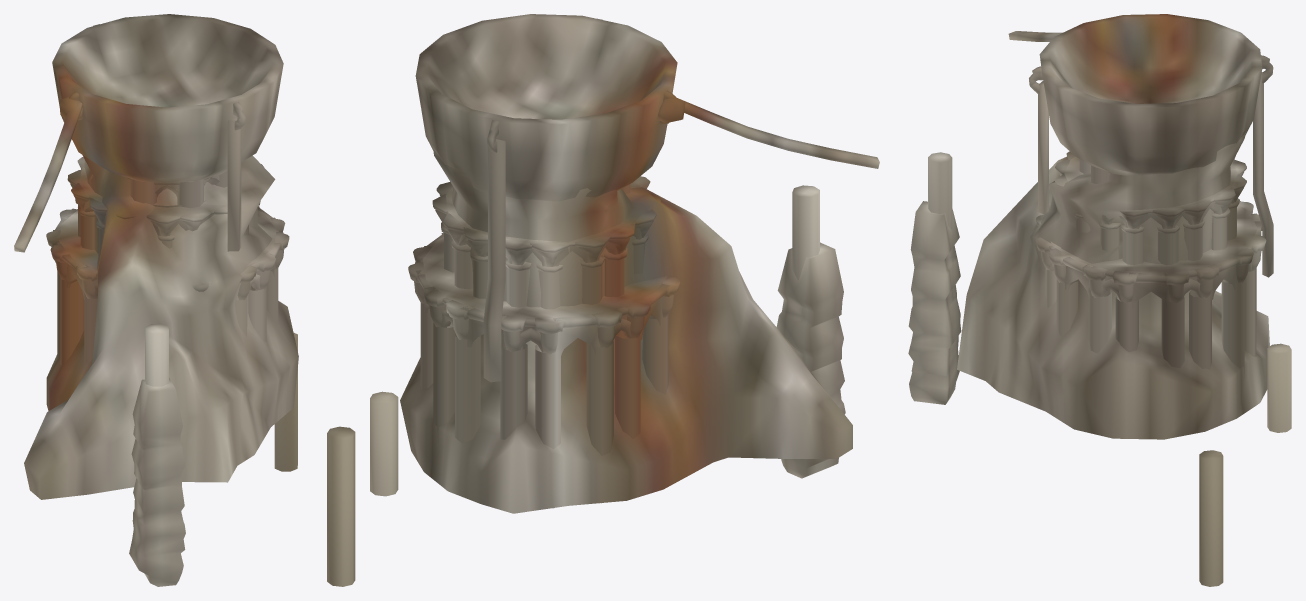
File: tile_3_4.glb
The picture shows the model from 3 angles, left to right: view 1: azimuth 30°, elevation 25°; view 2: azimuth 150°, elevation 25°; view 3: azimuth 270°, elevation 25°; orthographic projection. The views are drawn at different scales.
Visible parts, largest first — view 1: mesh[0].067; view 2: mesh[0].067; view 3: mesh[0].067.
Boxes of the visible parts, x1=… form: mesh[0].067: x1=14, y1=14, x2=298, y2=586; mesh[0].067: x1=327, y1=14, x2=879, y2=586; mesh[0].067: x1=908, y1=14, x2=1291, y2=586.
Size of the model in its own units: 282 by 326 by 252.
1 material, 1 textured.
